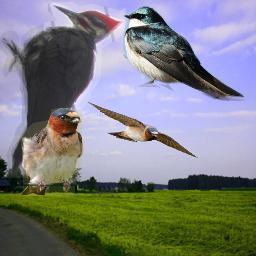Swallow: (122, 5, 245, 101), (85, 99, 200, 158), (20, 108, 85, 196)
Woodpecker: (0, 2, 125, 178)
